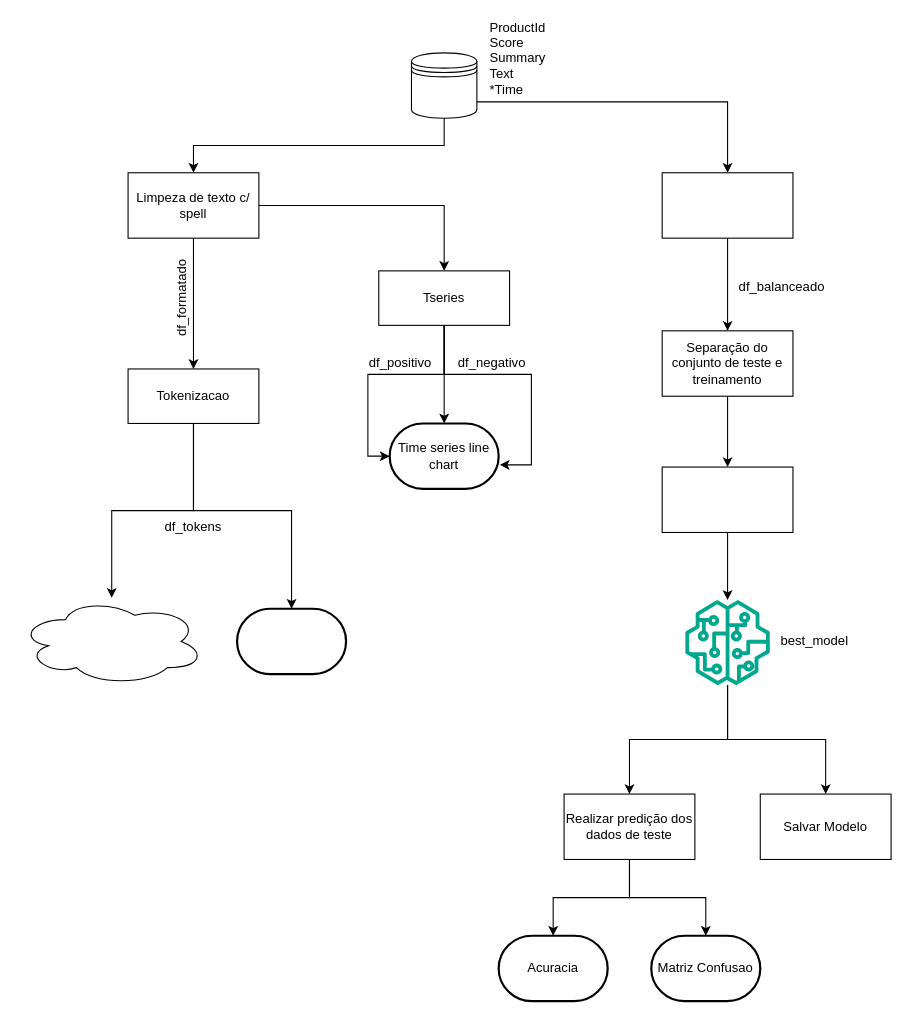
The diagram is 910 pixels wide and 1020 high, and some of its shapes have lost their labels. Here are the shapes that lost their labels. From the top down, the centre of each, then its label:
At (x=443, y=85): "reviews".
At (x=727, y=205): "Formatacao e balanceamento".
At (x=727, y=499): "GridSearchCV".
At (x=111, y=641): "Nuvem de palavras".
At (x=291, y=641): "Gráfico top palavras".
